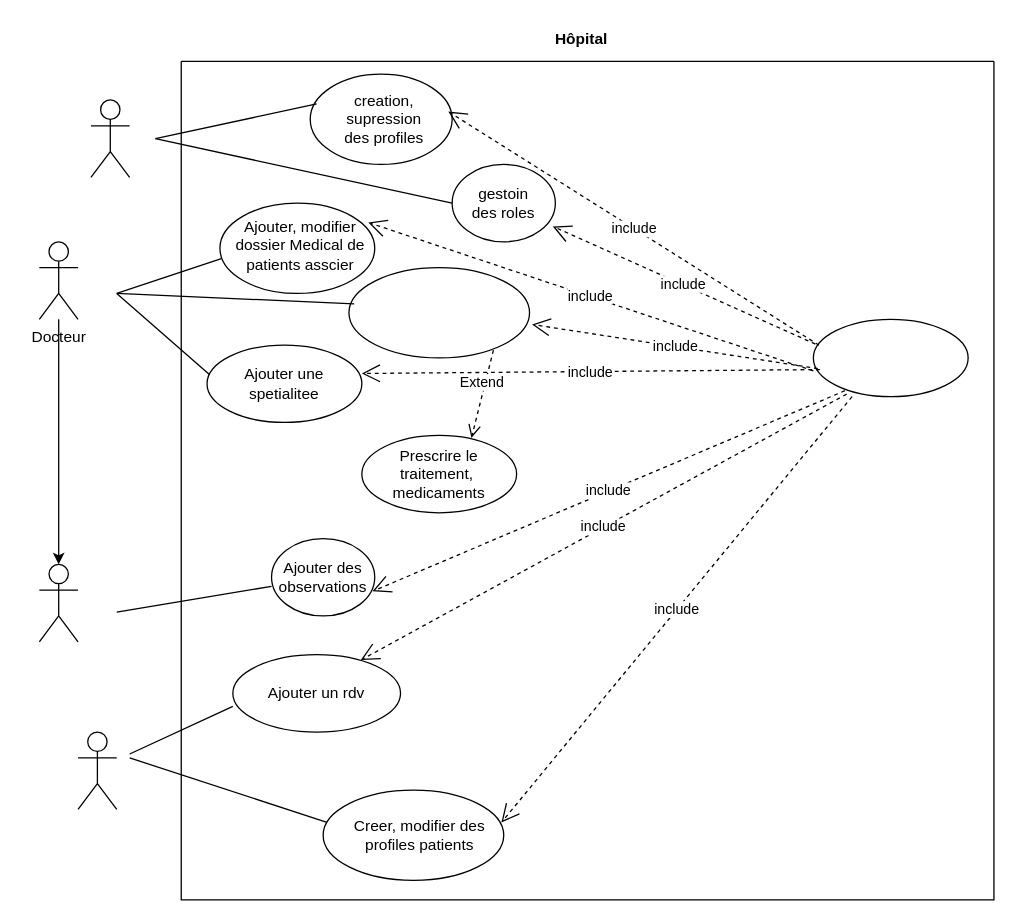
Image size: 1017x922. Some labels were removed from this diagram. Here are the shapes that lost their labels. From the top down, the box of each, then its label:
(90, 99, 130, 177): Admin
(348, 266, 530, 358): Creer, supprimer une consultation
(812, 318, 968, 397): Se connecter
(38, 563, 78, 642): Infirmier
(77, 731, 117, 809): Personel Administratif
